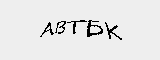З: (40, 17, 57, 35)
М: (120, 17, 145, 34)
С: (57, 17, 72, 33)
У: (16, 15, 38, 36)
Ф: (90, 16, 115, 31)
Ә: (71, 17, 87, 32)
